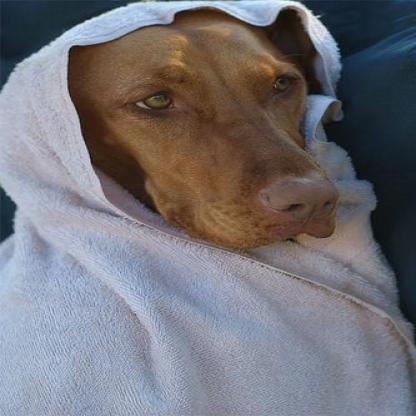vizsla: (0, 1, 412, 413)
